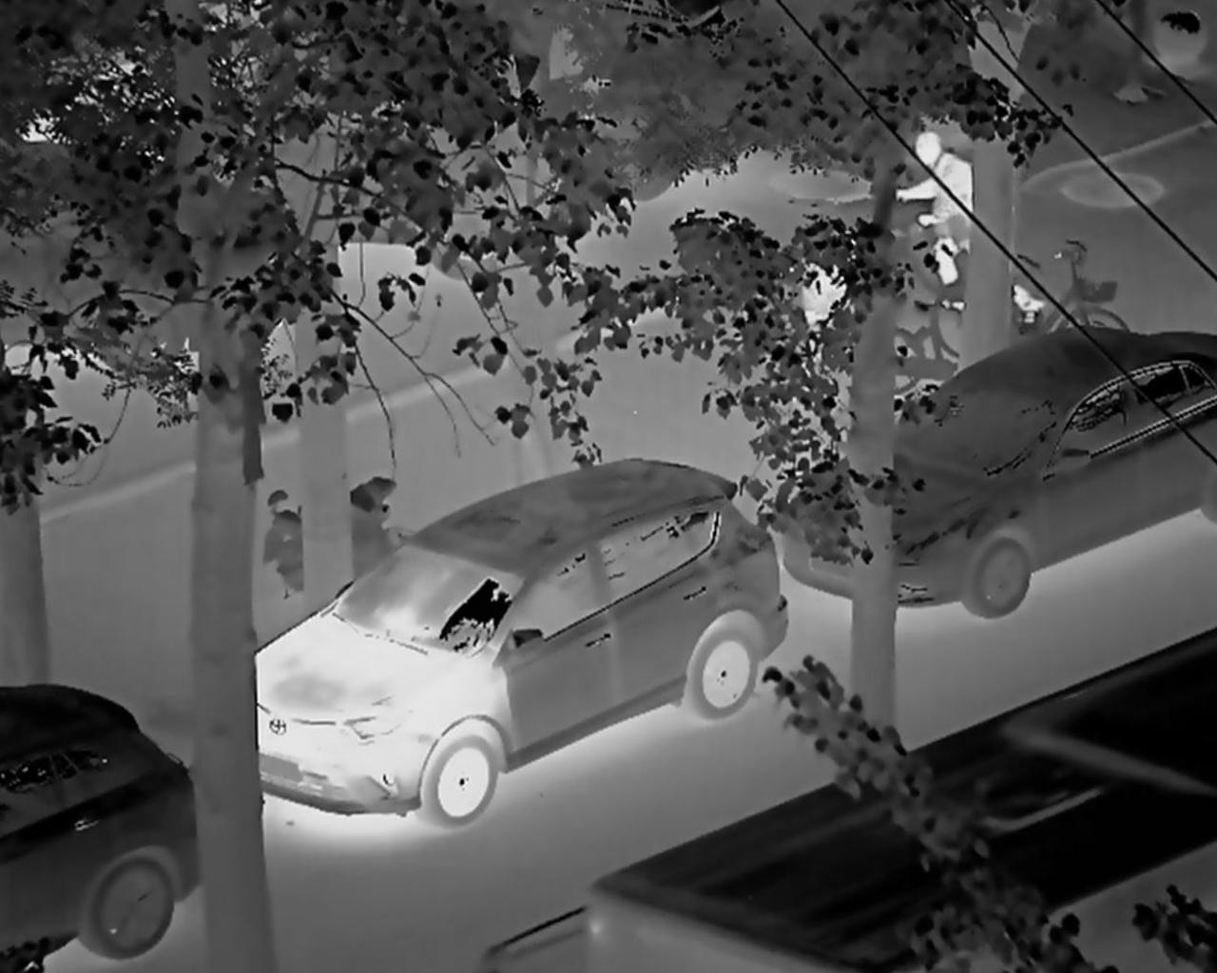person: (890, 107, 985, 326)
